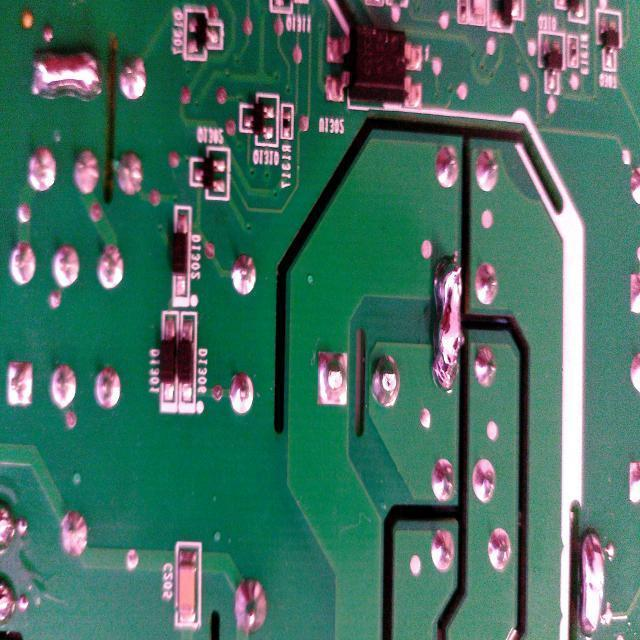Soldering bridge: (427, 249, 467, 398), (32, 49, 104, 101)
